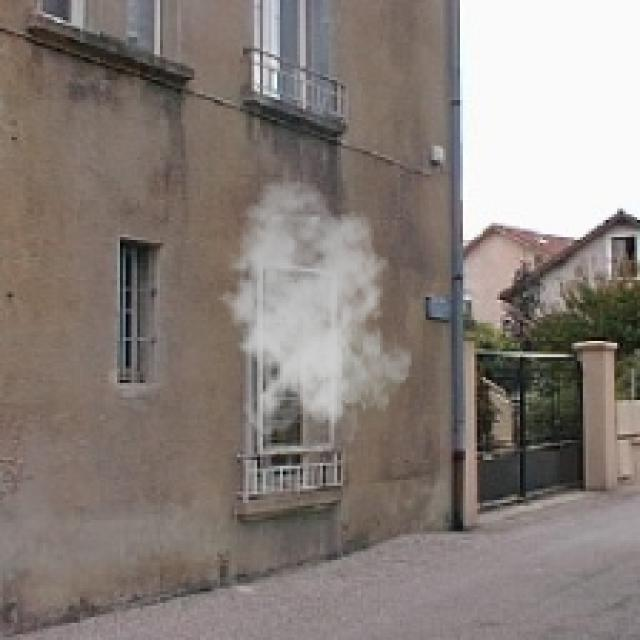smoke: (208, 177, 412, 443)
